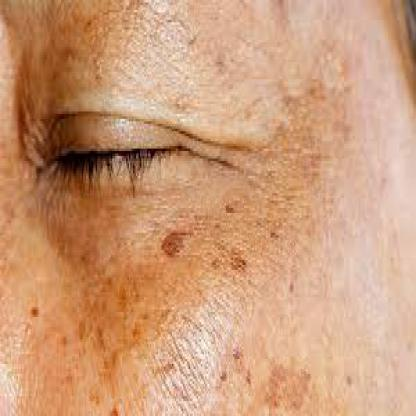blackspot: (25, 297, 144, 414), (230, 349, 351, 414), (156, 221, 246, 268)
puffyeye: (57, 54, 182, 138)
wrinkle: (263, 72, 320, 262), (156, 300, 214, 411)
